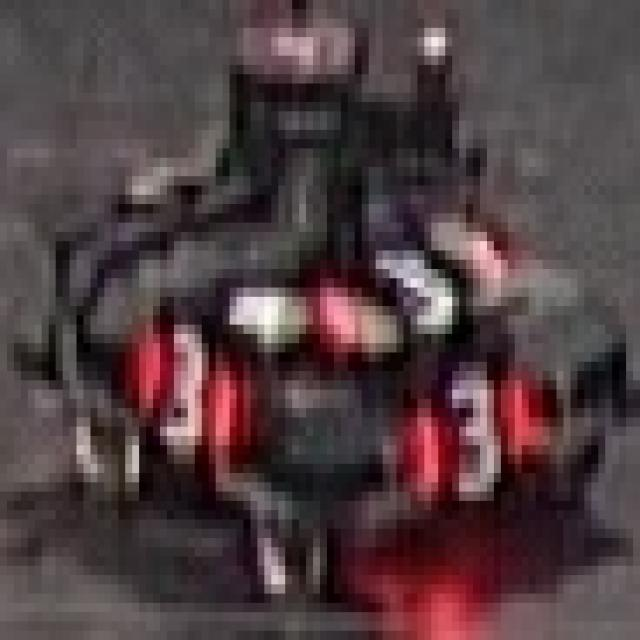R3: (313, 223, 501, 343), (410, 362, 529, 501), (132, 306, 237, 455)
